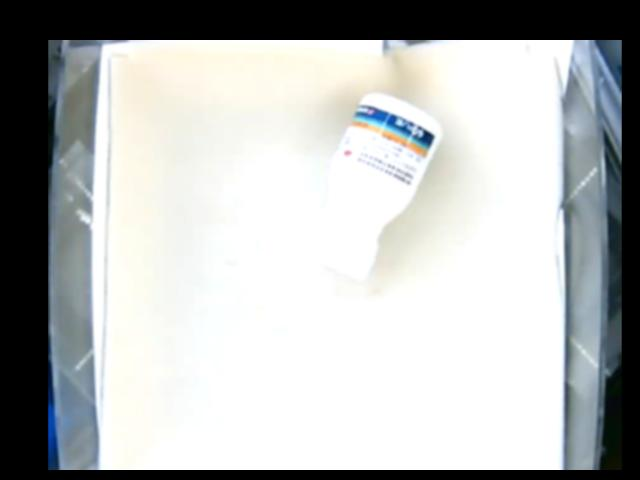Bottle: (299, 91, 441, 278)
